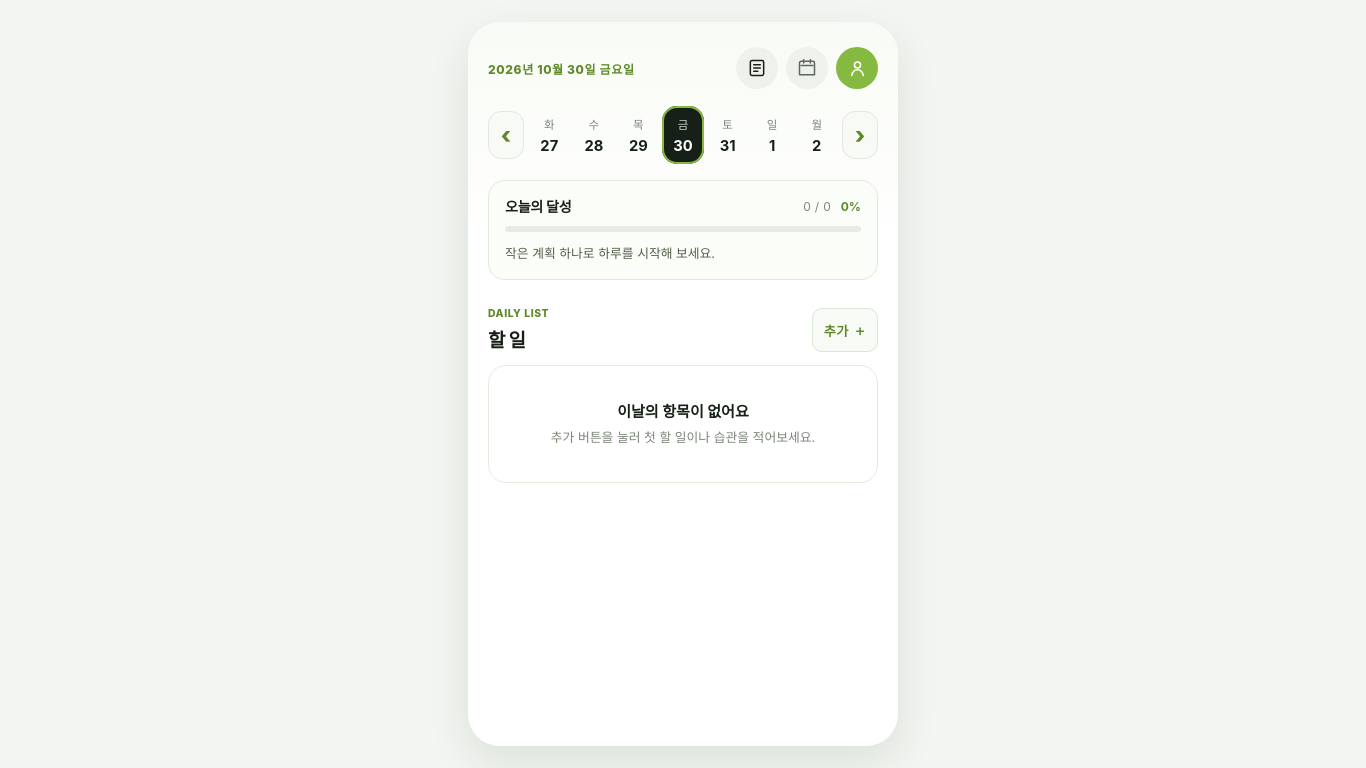
Test: App › opens the onboarding guide again from settings
Expected: the text "이날의 항목이 없어요" is shown, [617,402,749,421]
Click the button named "설정 열기": (857, 68) [836,47,878,89]
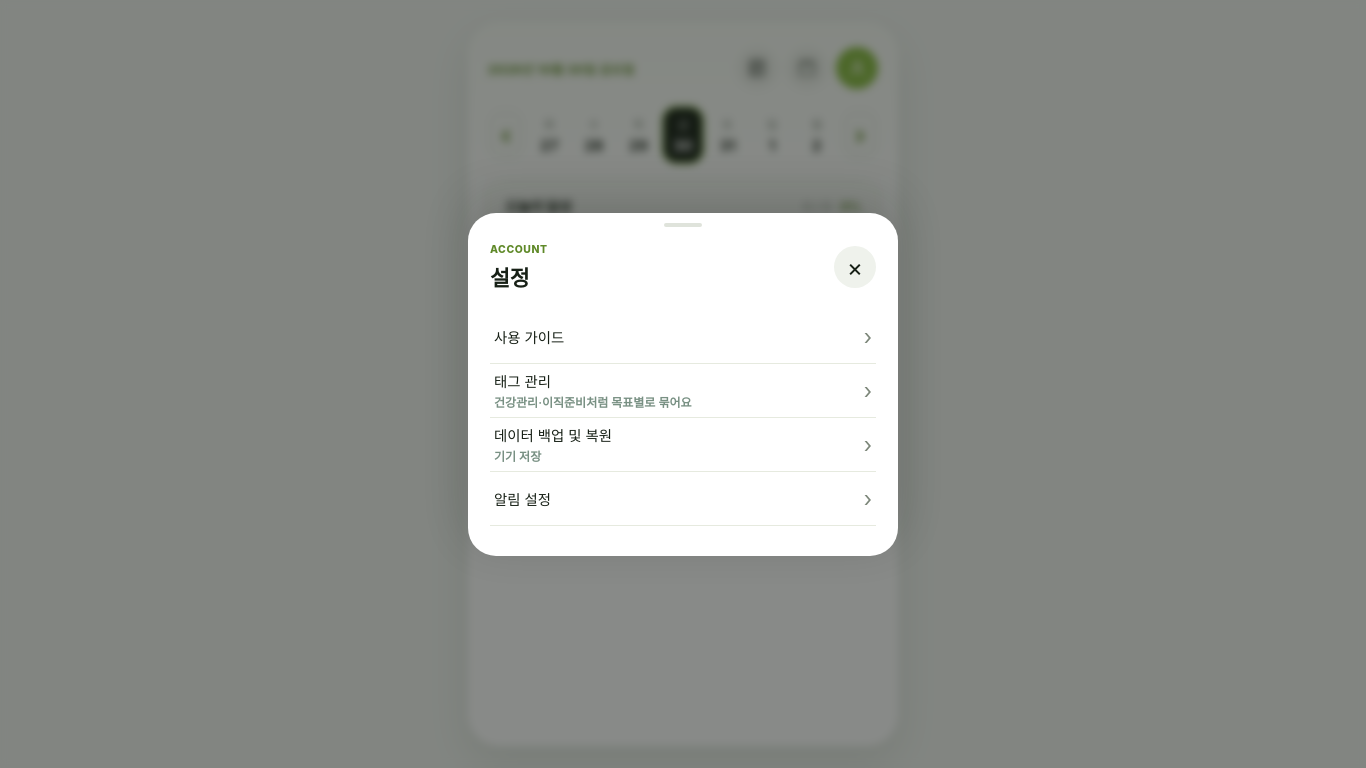
Click the button "사용 가이드 ›": (529, 337) [490,310,876,364]
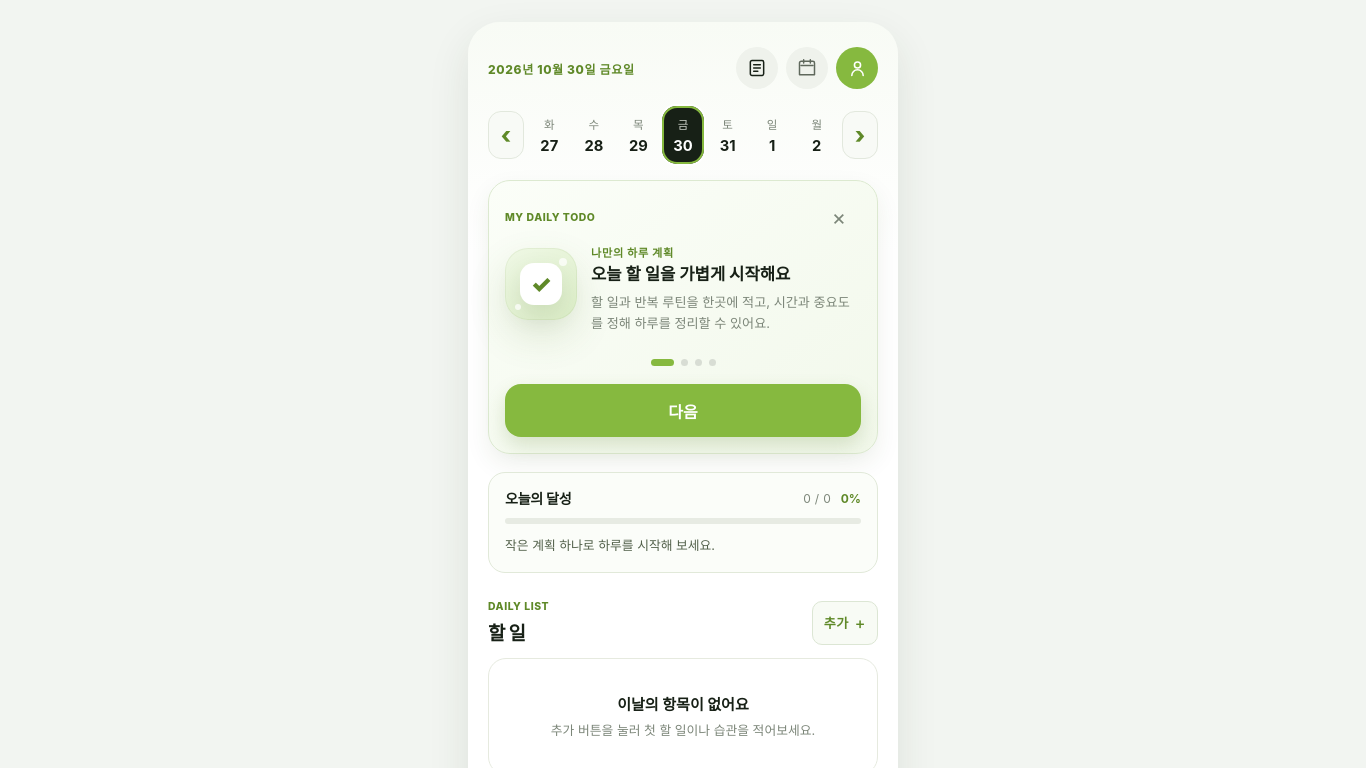
Result: the heading "오늘 할 일을 가볍게 시작해요" is shown at [591,264,790,284]
